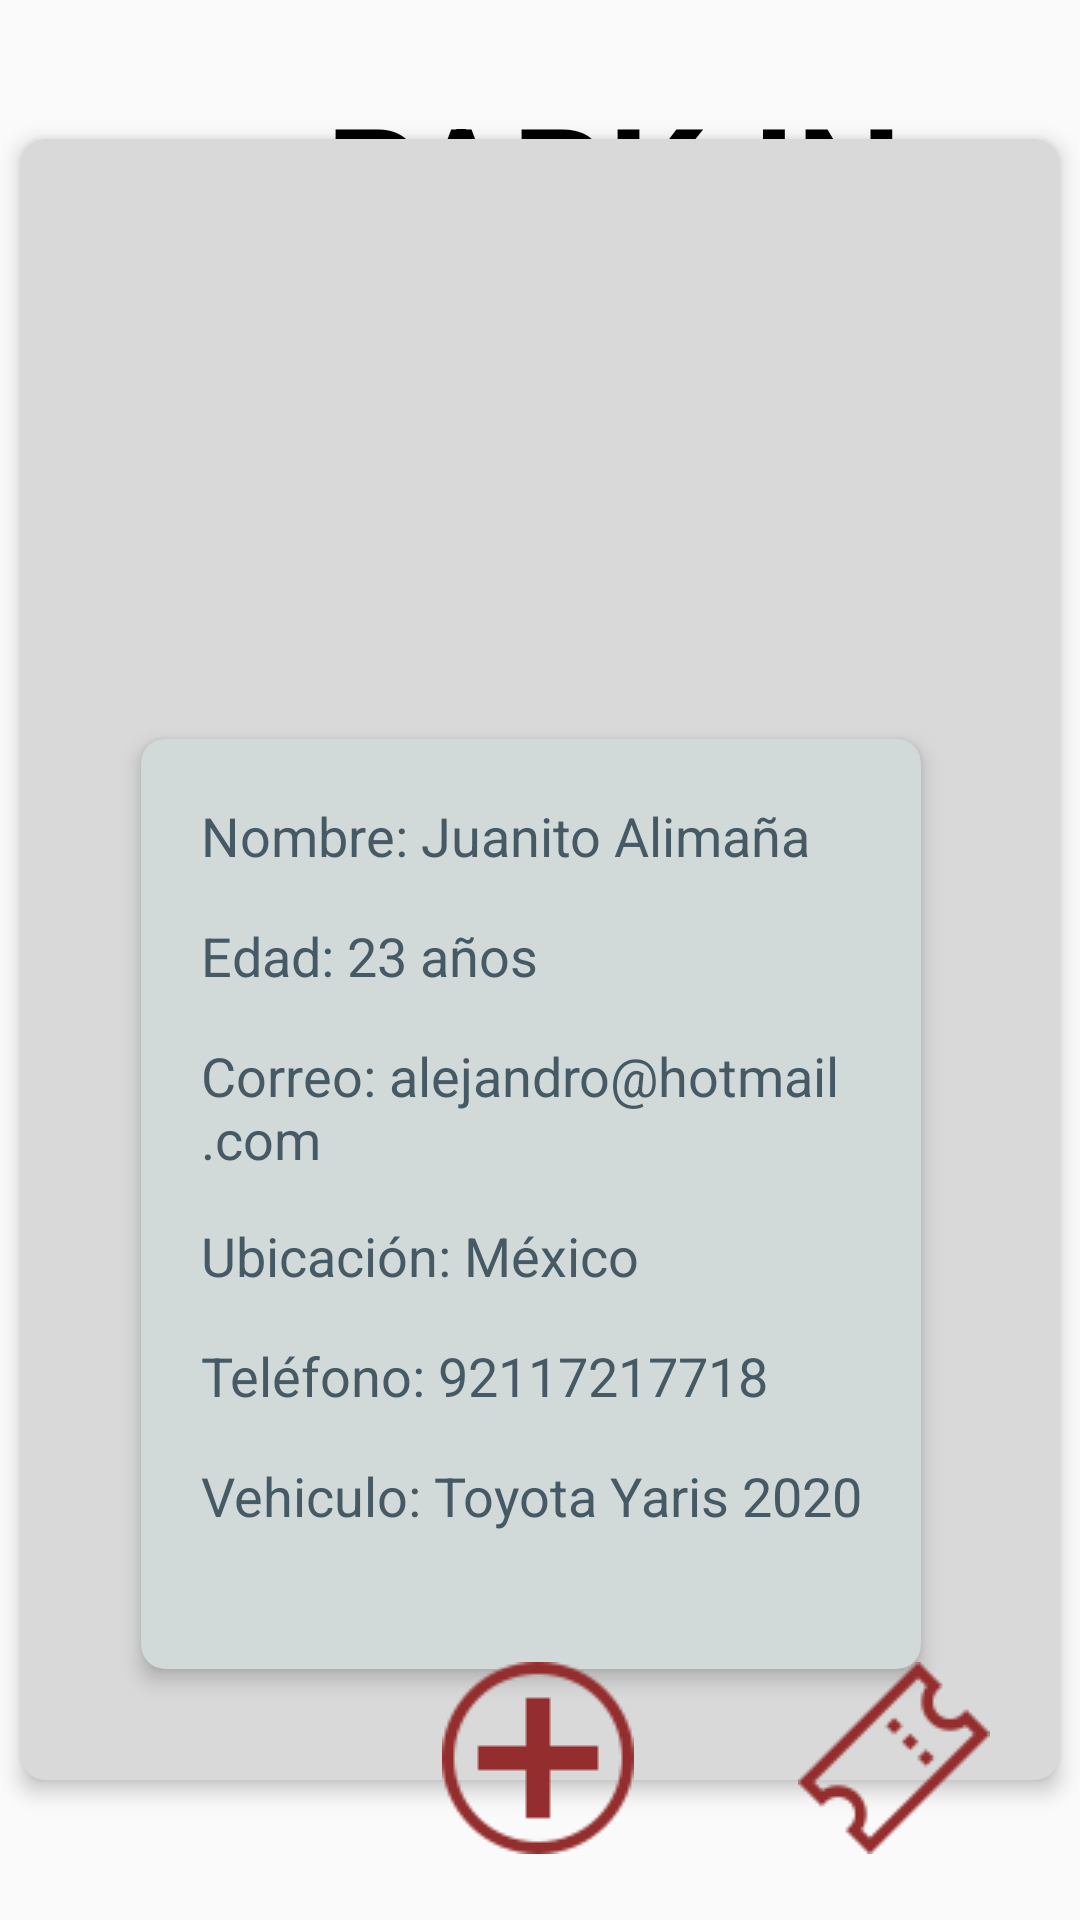

Icons on this 1080w x 1920h Android screen, each with the point to tap as (x=x, y=y):
circuloplus: (x=538, y=1758)
entradas: (x=894, y=1758)
